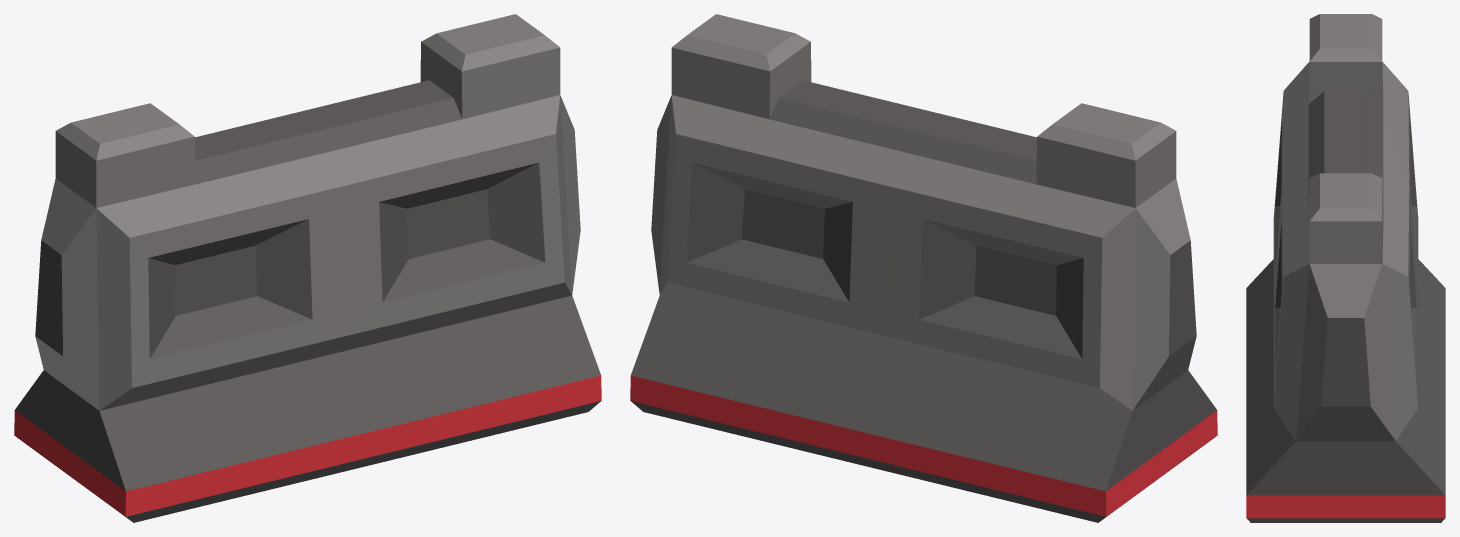
Rendered from scifi-barrier-medium.fbx.
3 renders of one model, left to right at view 1: azimuth 30°, elevation 25°; view 2: azimuth 150°, elevation 25°; view 3: azimuth 270°, elevation 25°, orthographic. The views are drawn at different scales.
Parts seen in each view (by area): view 1: scifi-barrier-medium; view 2: scifi-barrier-medium; view 3: scifi-barrier-medium.
Boxes of the visible parts, bbox=[...] form: scifi-barrier-medium: bbox=[14, 14, 601, 522]; scifi-barrier-medium: bbox=[630, 14, 1217, 522]; scifi-barrier-medium: bbox=[1246, 14, 1445, 522].
Size of the model in its own units: 2.2 by 1.42 by 0.8201.
